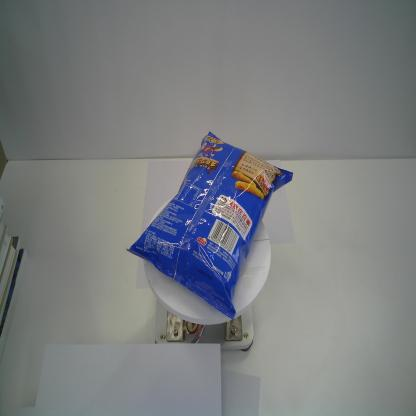Puffed Food: (120, 128, 294, 321)
